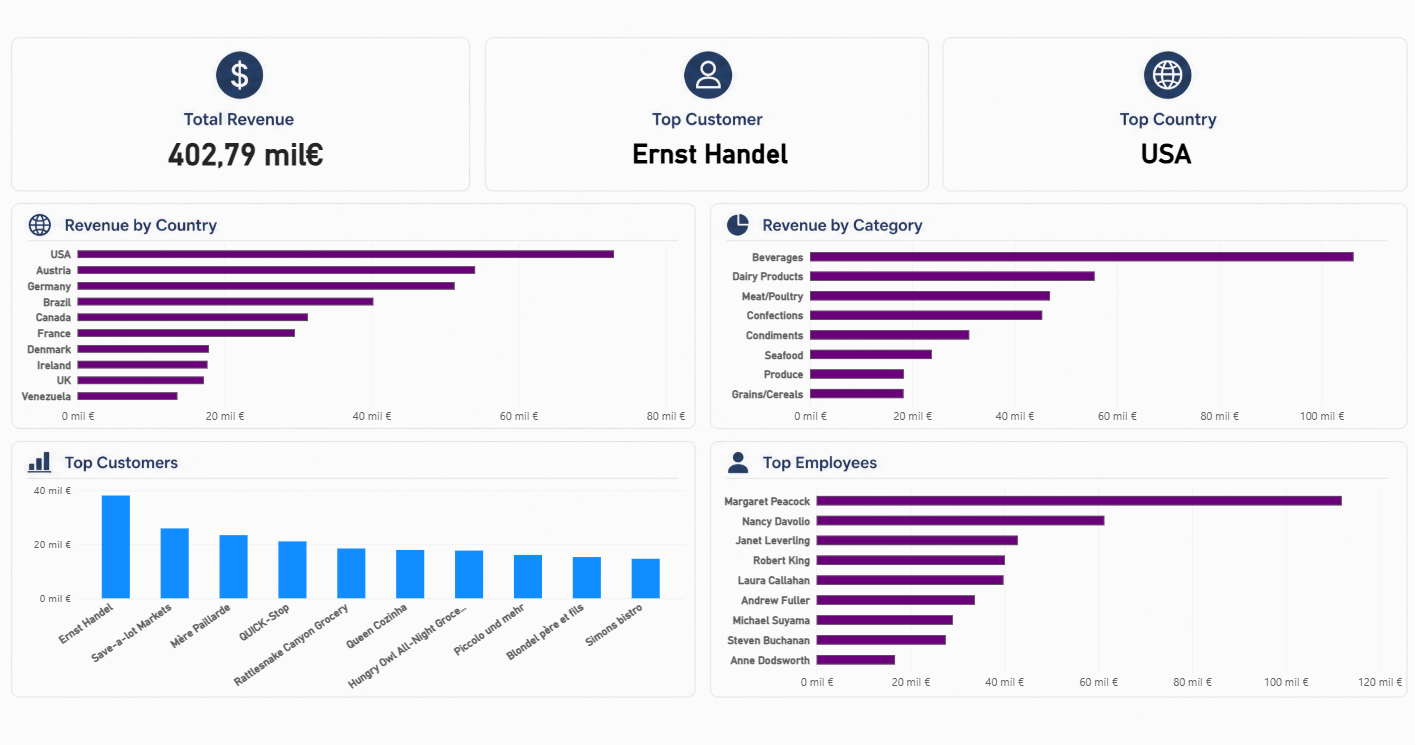

This screenshot's page, from the dashboard's own definition file:
{"tool":"powerbi","page":{"name":"Página 1","canvas":[1920,1080],"ordinal":0},"visuals":[{"type":"shape","box":[839.6,187,240.9,102.5],"z":0},{"type":"shape","box":[1450.8,187,240.9,102.5],"z":1000},{"type":"card","fields":{"Values":["Sum(power_bi_table.Revenue)"]},"box":[179.2,194.3,301.5,87.1],"z":2000},{"type":"barChart","fields":{"Category":["power_bi_table.EmployeeName"],"Y":["Sum(power_bi_table.Revenue)"]},"box":[960.9,664.4,941.4,313.8],"z":3000},{"type":"columnChart","fields":{"Category":["power_bi_table.CustomerName"],"Y":["Sum(power_bi_table.Revenue)"]},"box":[36.8,664.4,904.6,313.8],"z":4000},{"type":"barChart","fields":{"Category":["power_bi_table.Country"],"Y":["Sum(power_bi_table.Revenue)"]},"box":[19.5,337.6,921.9,283.5],"z":6000},{"type":"barChart","fields":{"Category":["power_bi_table.CategoryName"],"Y":["Sum(power_bi_table.Revenue)"]},"box":[971.7,337.6,921.9,283.5],"z":6001}]}

Visuals, with their boxes on the page's 1920x1080 design canvas (x1, y1, x2, y2). These are canvas units, not pixel positions in the 1415x745 screenshot, which may show the page scaled, cropped or inside an application window:
shape: (x1=840, y1=187, x2=1080, y2=290)
shape: (x1=1451, y1=187, x2=1692, y2=290)
card - Sum(power_bi_table.Revenue): (x1=179, y1=194, x2=481, y2=281)
barChart - power_bi_table.EmployeeName x Sum(power_bi_table.Revenue): (x1=961, y1=664, x2=1902, y2=978)
columnChart - power_bi_table.CustomerName x Sum(power_bi_table.Revenue): (x1=37, y1=664, x2=941, y2=978)
barChart - power_bi_table.Country x Sum(power_bi_table.Revenue): (x1=20, y1=338, x2=941, y2=621)
barChart - power_bi_table.CategoryName x Sum(power_bi_table.Revenue): (x1=972, y1=338, x2=1894, y2=621)
